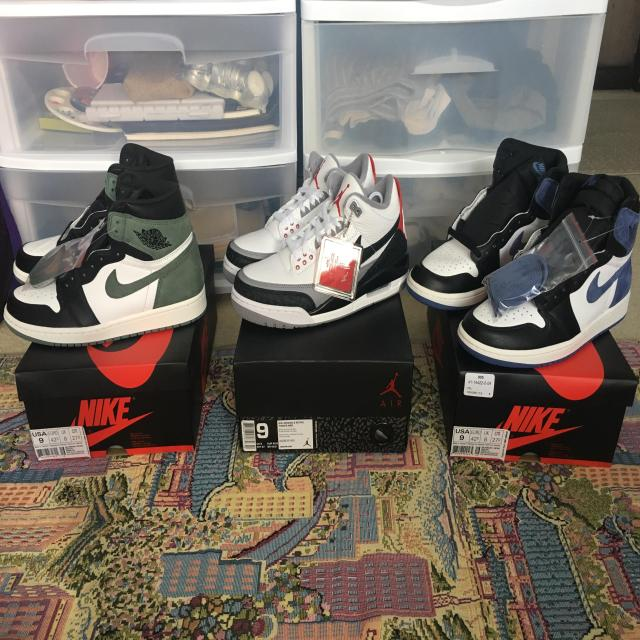shoes: (0, 138, 215, 352), (451, 164, 640, 373), (218, 142, 413, 331), (405, 134, 576, 324)
